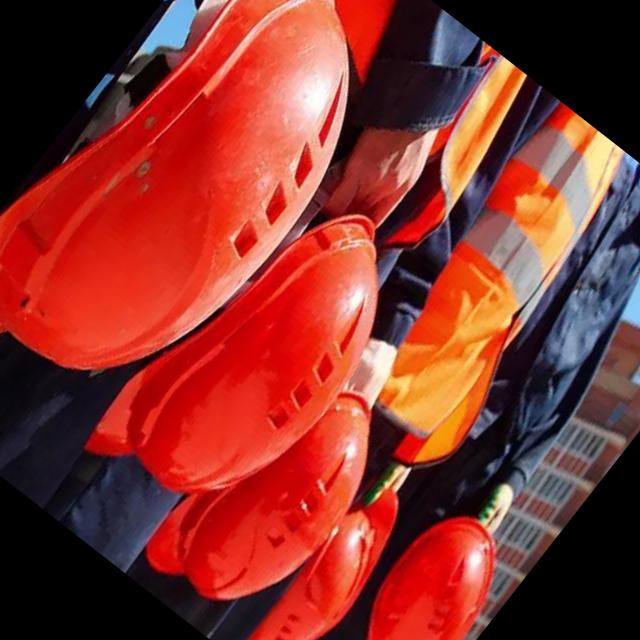hard_hat: (0, 0, 433, 477), (72, 160, 438, 559), (132, 344, 413, 640), (242, 475, 426, 640), (336, 495, 529, 640)
safety_vest: (319, 99, 640, 489)
